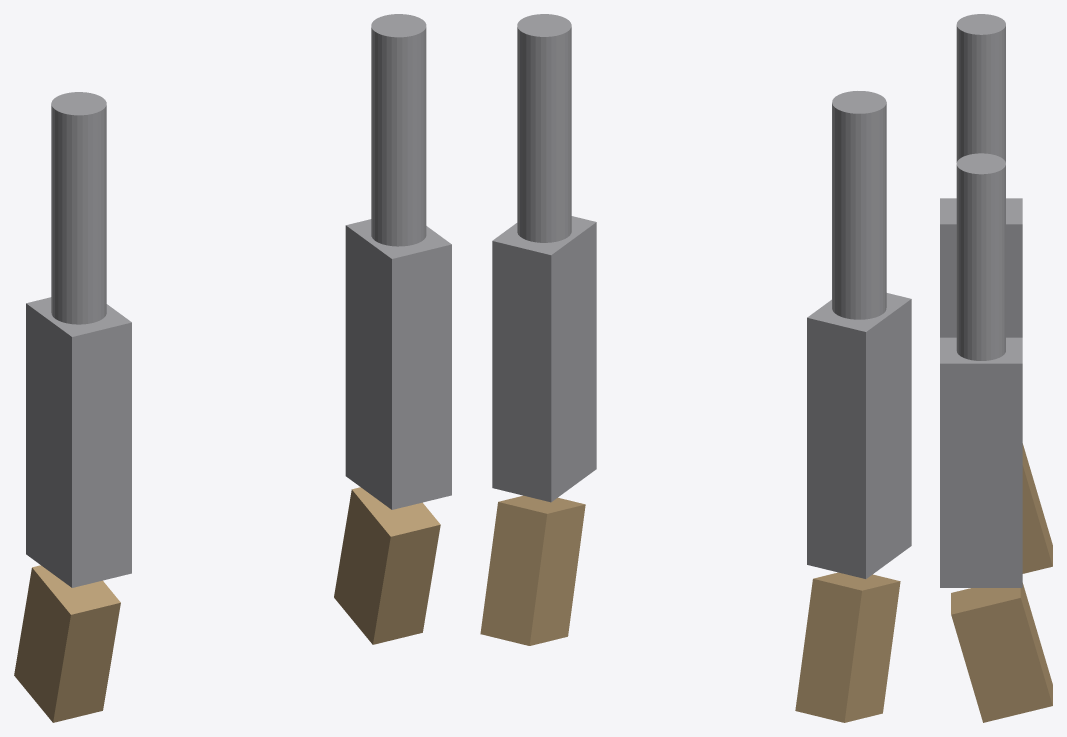
File: dual_pistol.glb
3 views of the same model, side by side, from view 1: azimuth 30°, elevation 25°; view 2: azimuth 150°, elevation 25°; view 3: azimuth 270°, elevation 25° (orthographic). The views are drawn at different scales.
Visible parts, largest first — view 1: BodyR, BodyL, BarrelL, BarrelR, GripR, GripL; view 2: BodyR, BodyL, GripR, GripL, BarrelL, BarrelR; view 3: BodyR, BarrelR, GripR, BarrelL, BodyL, GripL.
Boxes of the visible parts, box(x1,y1,x2,y2) form: BodyR: box(345, 219, 451, 509); BodyL: box(26, 297, 131, 587); BarrelL: box(51, 92, 106, 324); BarrelR: box(371, 14, 426, 246); GripR: box(334, 487, 440, 644); GripL: box(14, 565, 120, 722); BodyR: box(492, 216, 596, 502); BodyL: box(807, 293, 911, 578); GripR: box(480, 495, 585, 645); GripL: box(795, 572, 900, 722); BarrelL: box(832, 91, 886, 319); BarrelR: box(517, 14, 571, 242); BodyR: box(940, 337, 1022, 587); BarrelR: box(956, 153, 1005, 360); GripR: box(951, 583, 1052, 722); BarrelL: box(956, 14, 1005, 162); BodyL: box(940, 198, 1022, 337); GripL: box(1022, 443, 1052, 573).
Size of the model in its own units: 0.19 by 0.2935 by 0.0547.
